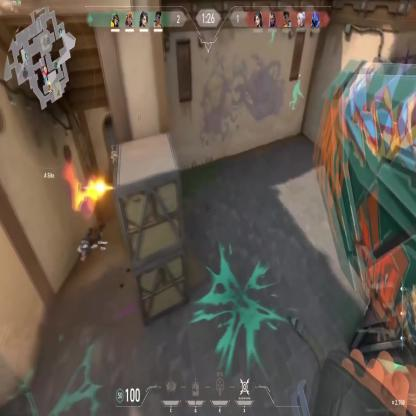enemy: (109, 142, 119, 178)
enemy_head: (111, 144, 115, 152)
